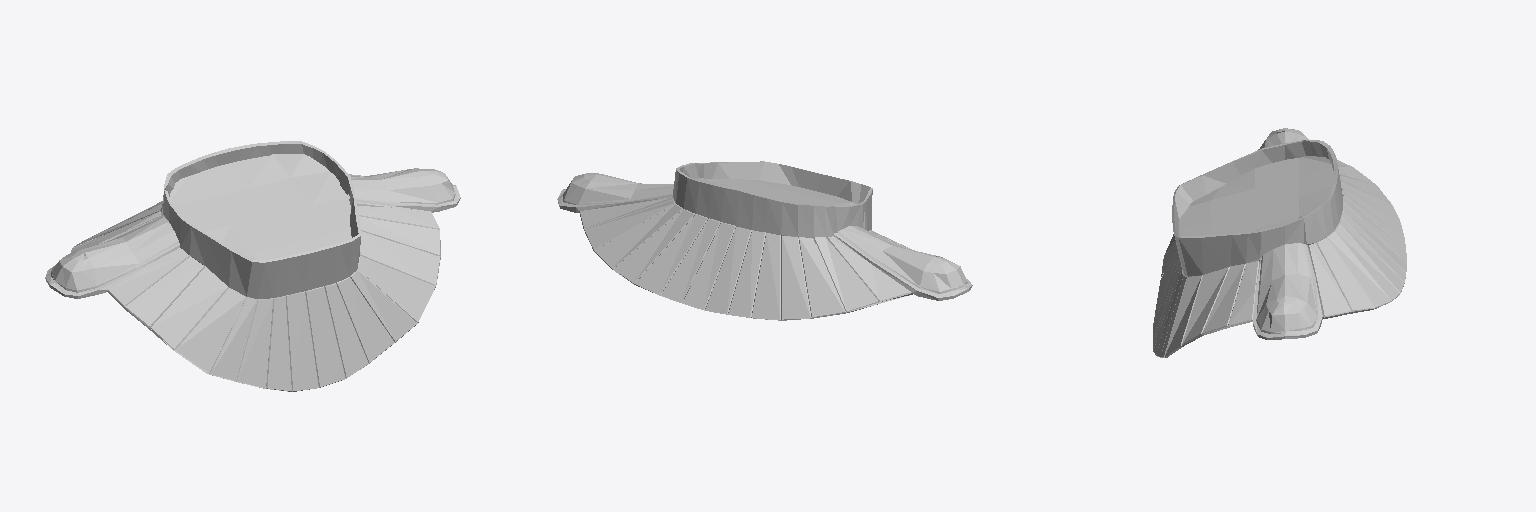
The model's file is jaffa_collar.obj.
The picture shows the model from 3 angles: view 1: azimuth 30°, elevation 25°; view 2: azimuth 150°, elevation 25°; view 3: azimuth 270°, elevation 25°; orthographic projection.
Parts seen in each view (by area): view 1: Soldier.jaffa_ref.smd.mesh_1.001; view 2: Soldier.jaffa_ref.smd.mesh_1.001; view 3: Soldier.jaffa_ref.smd.mesh_1.001.
Boxes of the visible parts, <box> form: Soldier.jaffa_ref.smd.mesh_1.001: <box>45,141,460,391</box>; Soldier.jaffa_ref.smd.mesh_1.001: <box>557,161,972,320</box>; Soldier.jaffa_ref.smd.mesh_1.001: <box>1153,128,1406,357</box>.
Bounding box in the file's own units: 25.58 × 10.36 × 13.84.